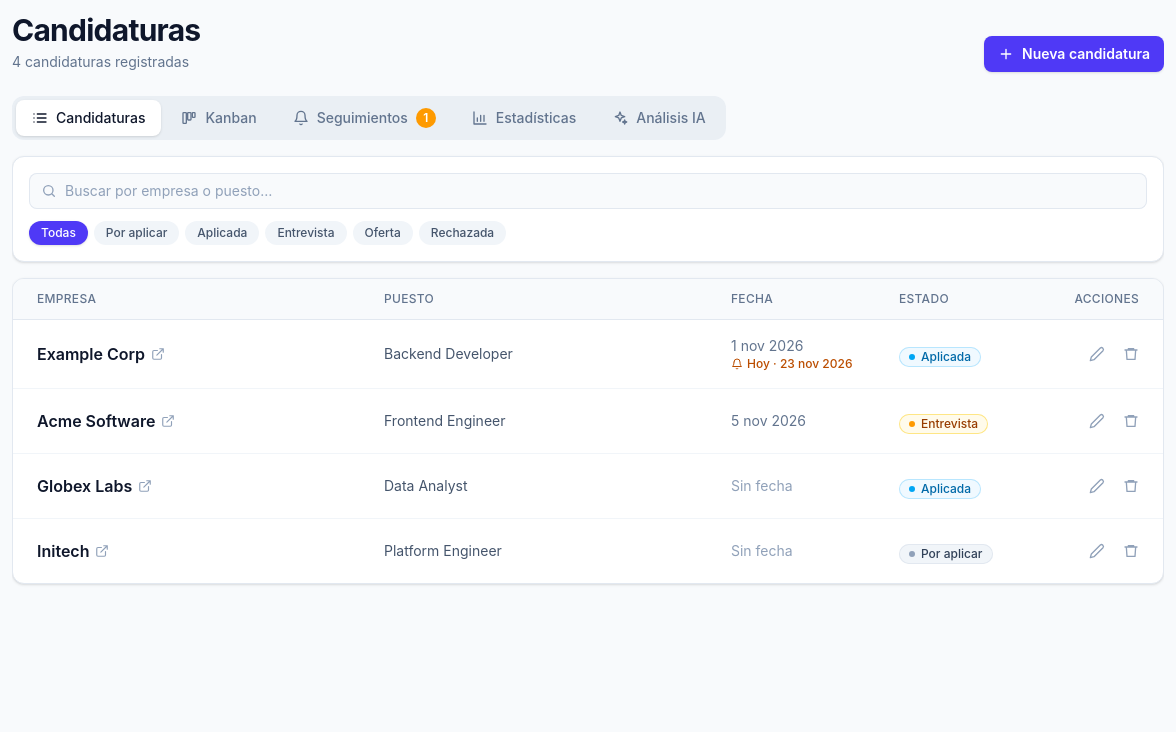
Test case: ApplicationsPage Kanban › puts the card back and offers a retry when saving fails
The width and height of the screenshot is (1176, 732).
Check: the list named "Candidaturas" is shown, box 13,320 -> 1163,583
Click the tab "Kanban" at (219, 118), box 166,100 -> 273,136
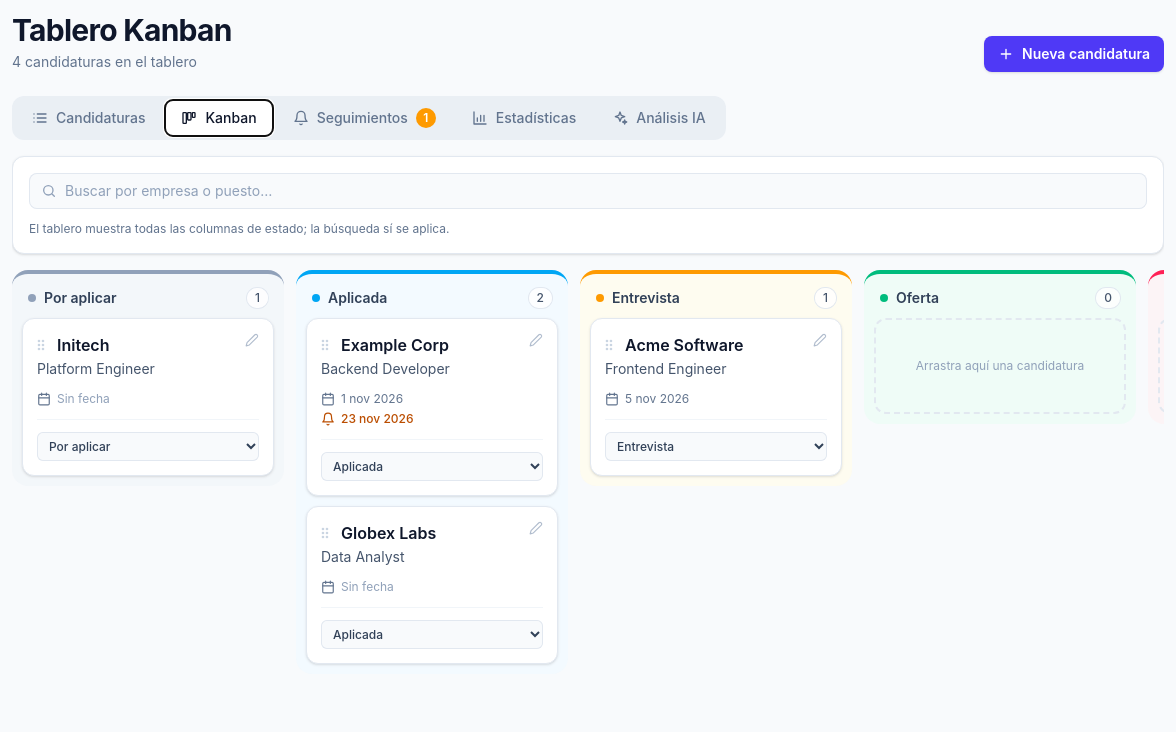
Check: the element named "Tablero Kanban" is shown, box 12,270 -> 1164,686
Select "Mover a Entrevista" in the dropdown named "Mover Backend Developer en Example Corp a" below "Example Corp" at (432, 466), box 321,452 -> 543,481
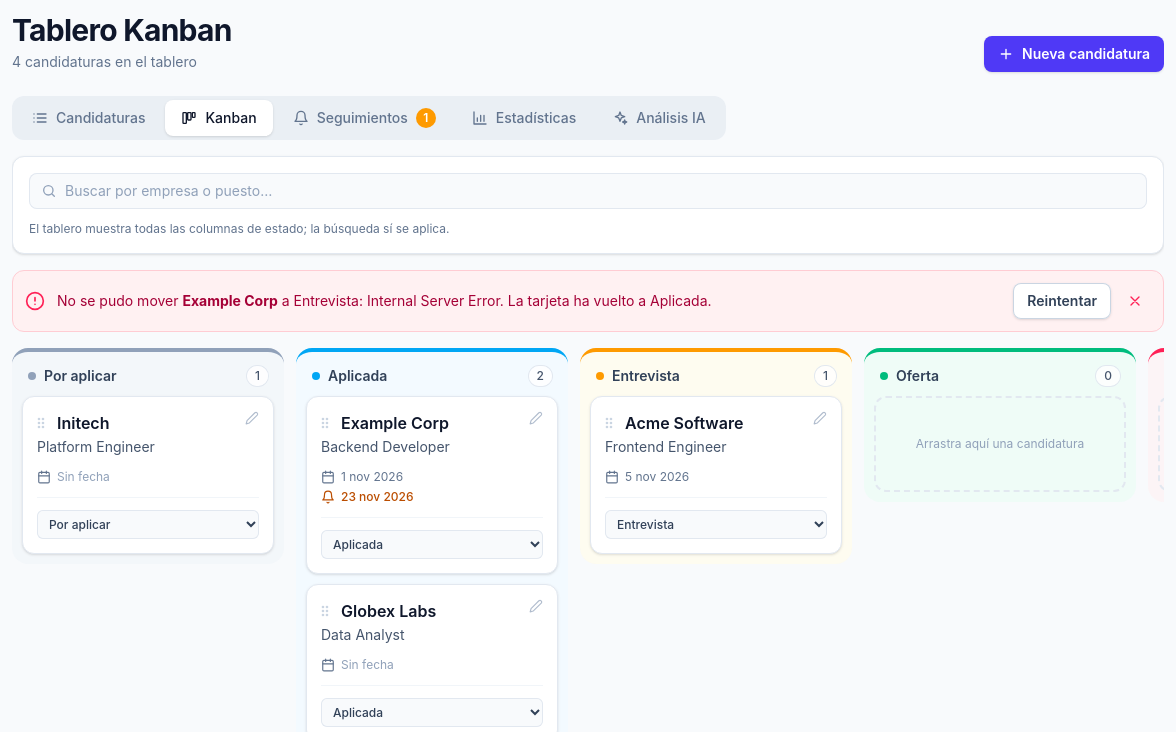
Check: the message shows "No se pudo mover Example Corp a Entrevista: Internal Server Error", box 12,270 -> 1164,332
Check: the message shows "La tarjeta ha vuelto a Aplicada.", box 12,270 -> 1164,332
Click the button "Reintentar" at (1062, 301), box 1013,283 -> 1111,319
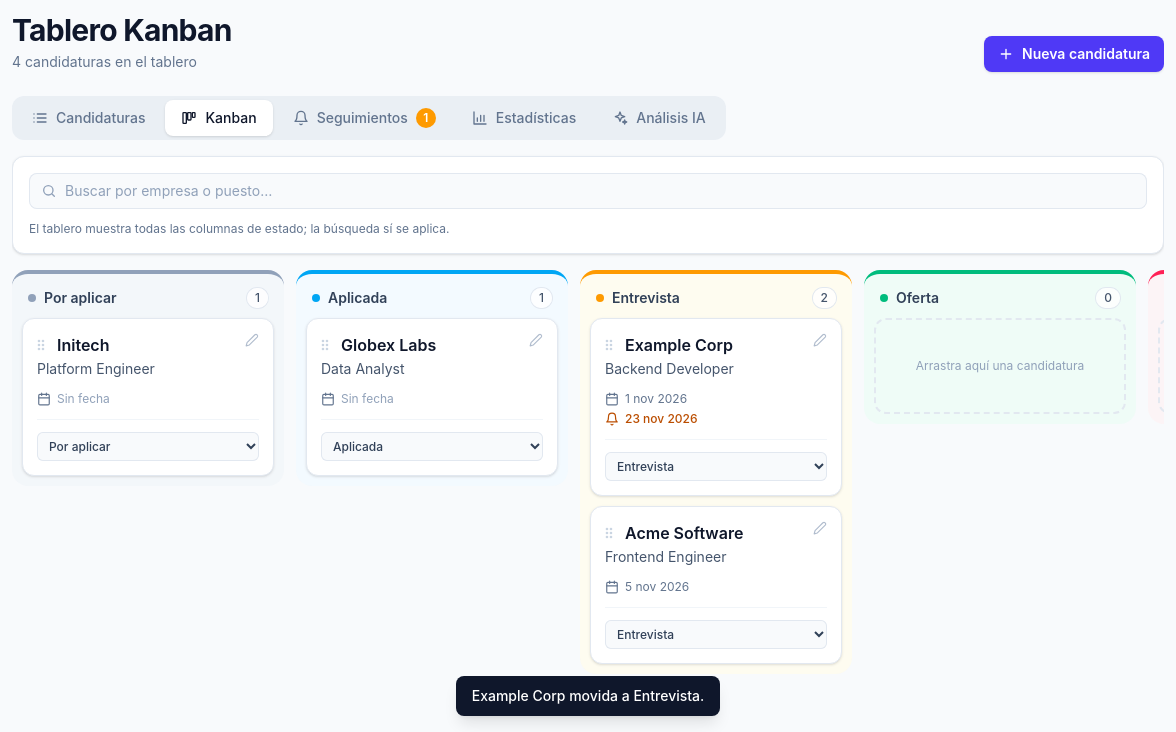
Check: the text "Example Corp movida a Entrevista." is shown, box 456,676 -> 720,716
